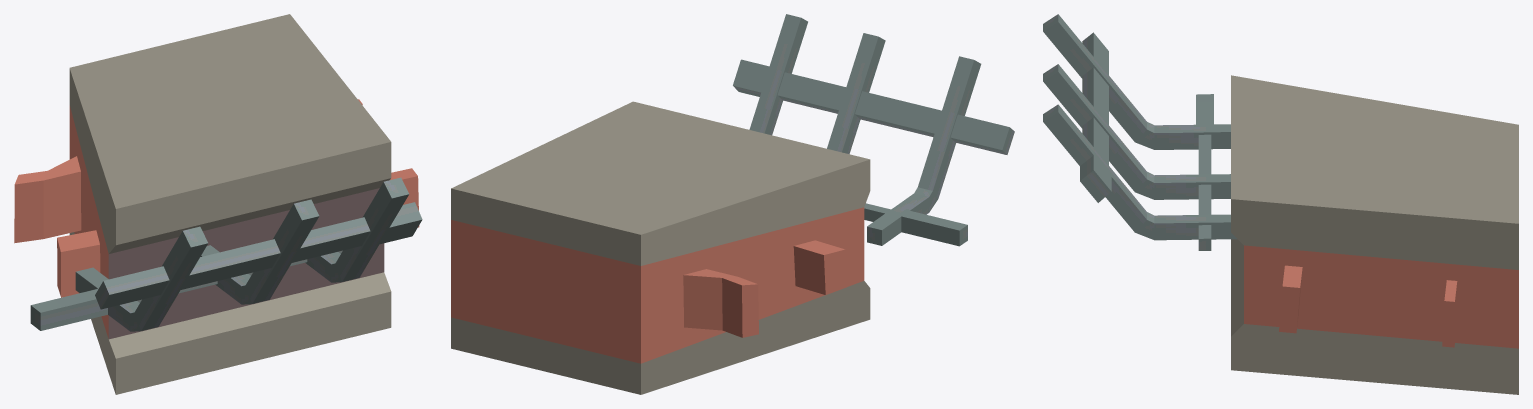
Rendered from 108_LowWallPiece1mILITARY.gltf.
3 renders of one model, left to right at view 1: azimuth 30°, elevation 25°; view 2: azimuth 150°, elevation 25°; view 3: azimuth 270°, elevation 25°, orthographic. The views are drawn at different scales.
Parts seen in each view (by area): view 1: LowWallPiece1mILITARY; view 2: LowWallPiece1mILITARY; view 3: LowWallPiece1mILITARY.
Part boxes in pixels (bbox=[...]): LowWallPiece1mILITARY: bbox=[14, 14, 422, 394]; LowWallPiece1mILITARY: bbox=[451, 14, 1014, 394]; LowWallPiece1mILITARY: bbox=[1043, 14, 1518, 394].
Size of the model in its own units: 9.26 by 4.61 by 9.03.
Materials: 1 (1 with a texture image).
